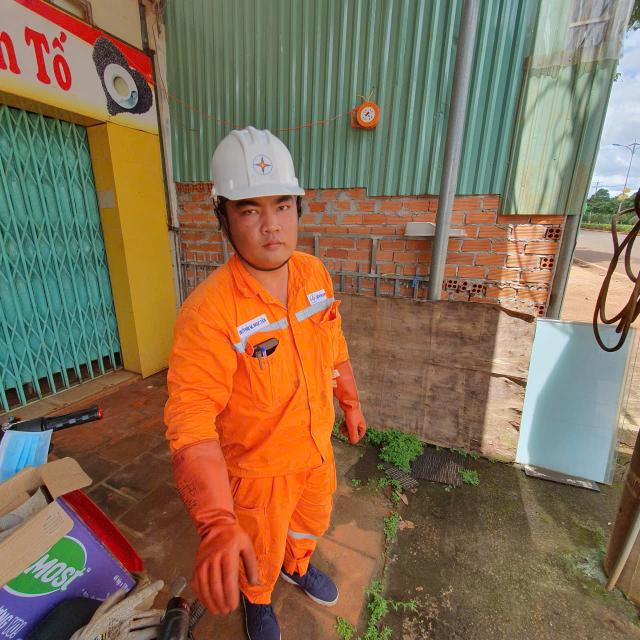gloves: (158, 433, 275, 618), (323, 346, 387, 453)
helmet: (191, 116, 325, 220)
shoes: (278, 550, 350, 615), (238, 593, 288, 640)
